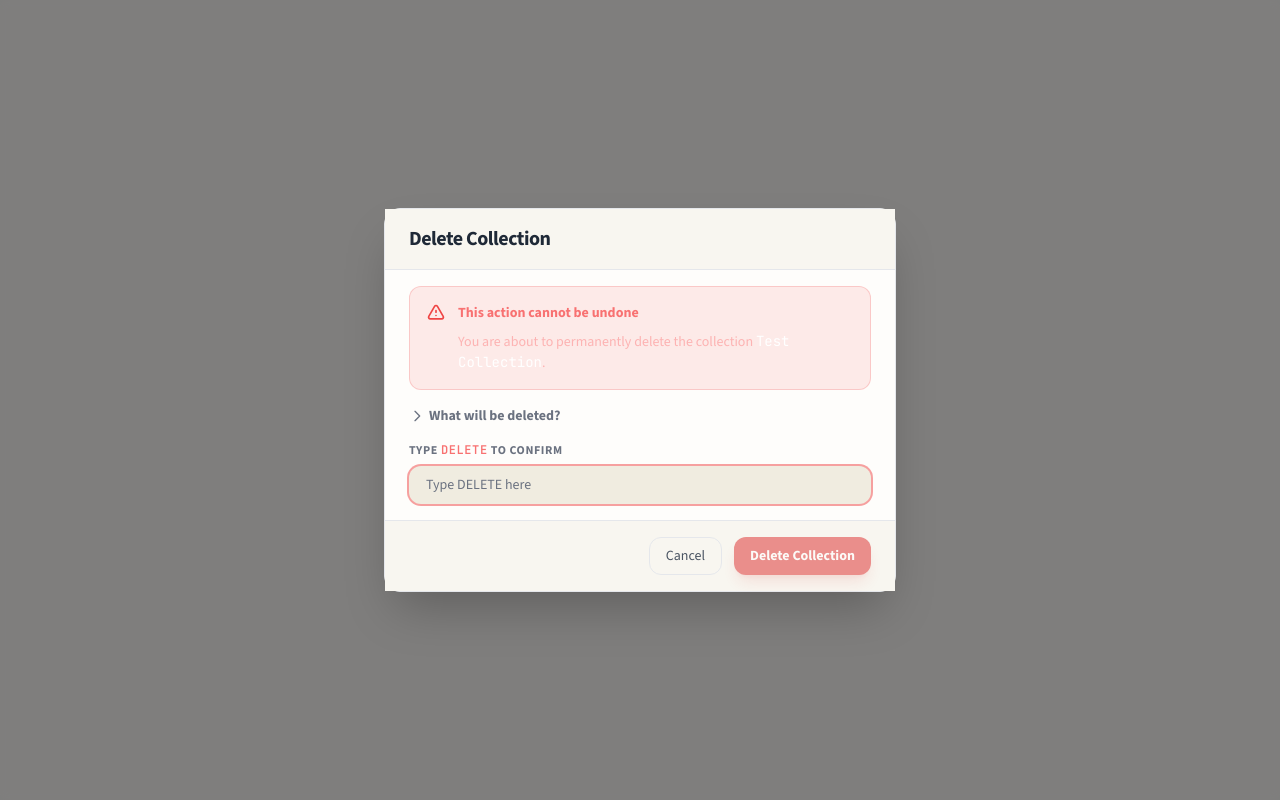
it: DeleteCollectionModal › Edge Cases › should handle zero stats gracefully
This screenshot has width=1280, height=800.
Open details
Click the button "What will be deleted?" at [485, 416], box left=409, top=406, right=560, bottom=426
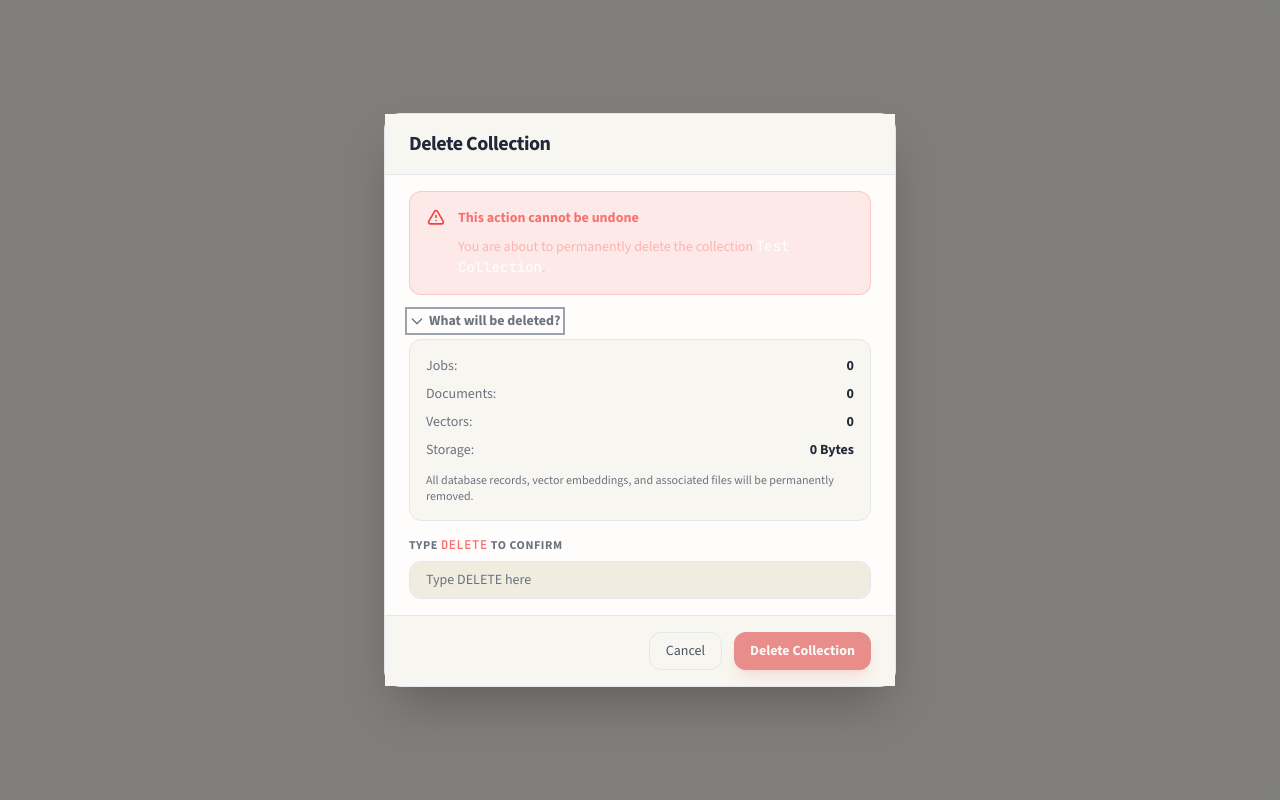
Check: the text "0 Bytes" is shown, box left=810, top=440, right=854, bottom=460
